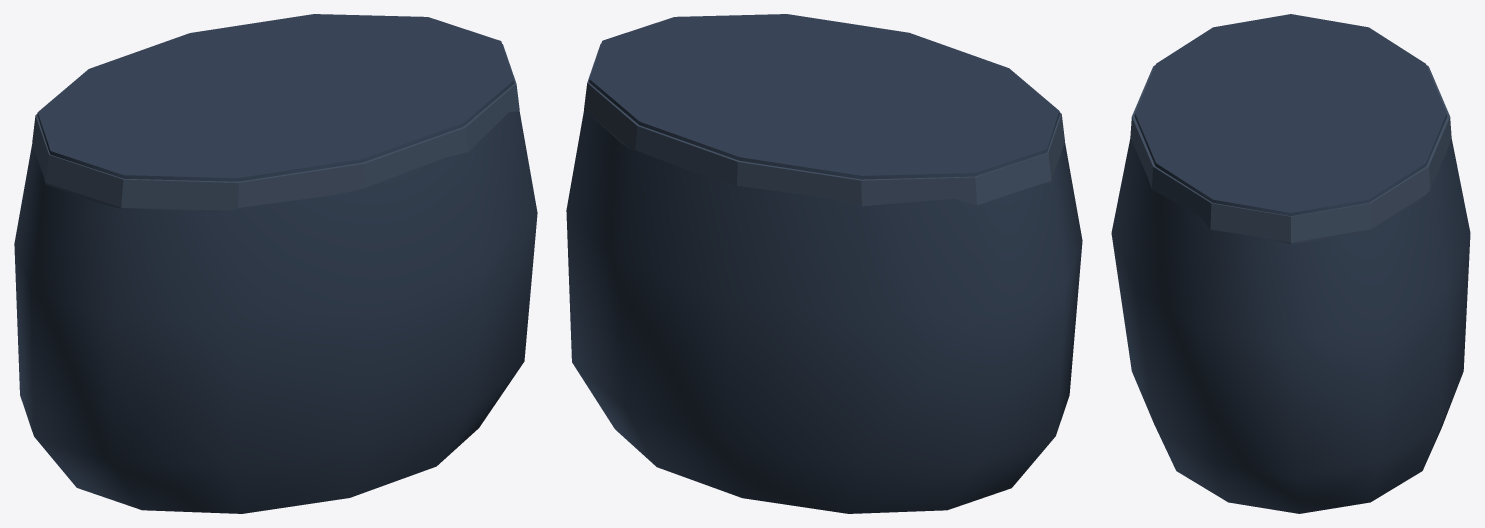
File: cadera.obj
The picture shows the model from 3 angles, left to right: view 1: azimuth 30°, elevation 25°; view 2: azimuth 150°, elevation 25°; view 3: azimuth 270°, elevation 25°; orthographic projection. The views are drawn at different scales.
Visible parts, largest first — view 1: cadera; view 2: cadera; view 3: cadera.
Boxes of the visible parts, x1,y1,x2,y2 form: cadera: (14,14,537,513); cadera: (566,14,1082,513); cadera: (1111,14,1470,513).
Size of the model in its own units: 0.302 by 0.205 by 0.212.
